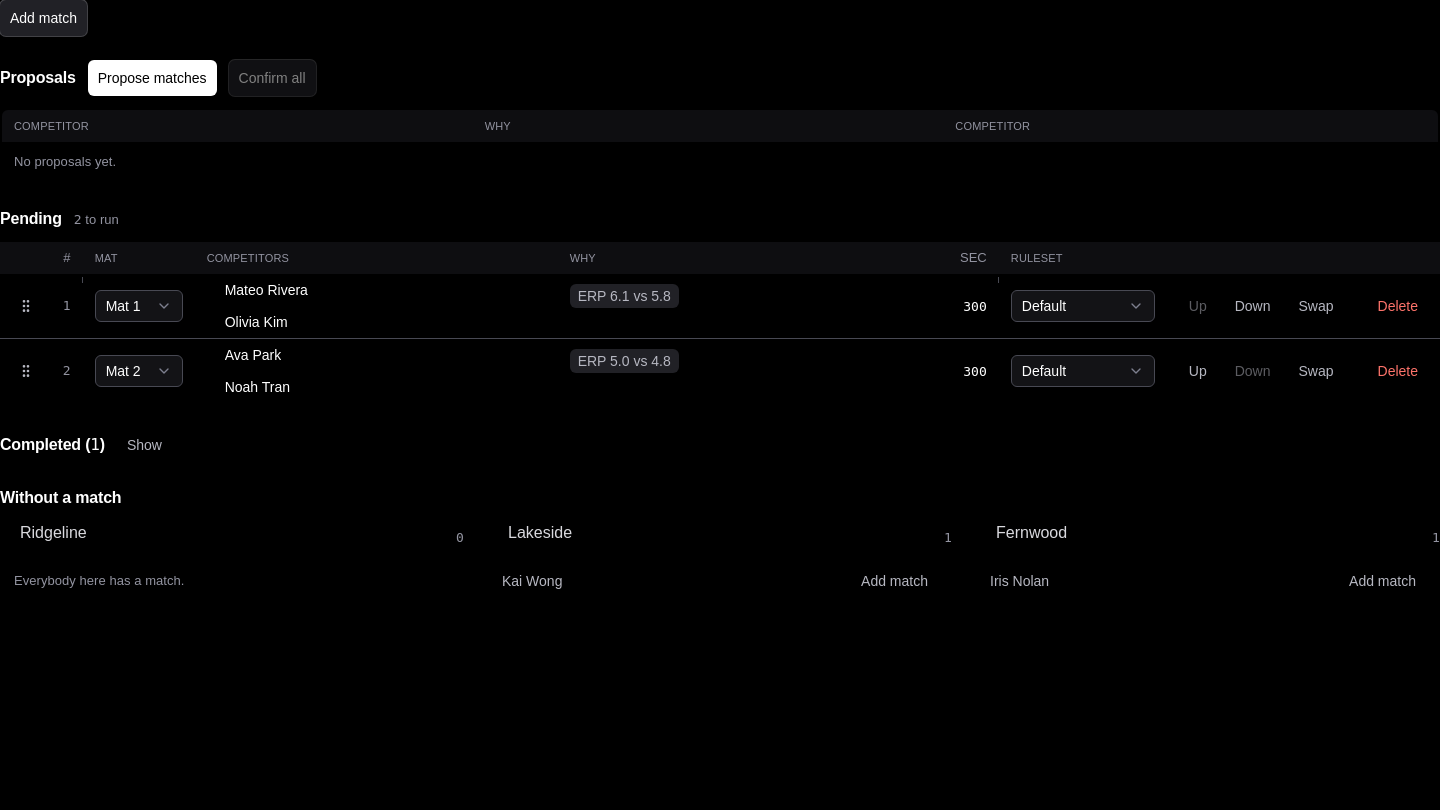
Test: MatchesTab › offers a third team when swapping a side
The image size is (1440, 810).
Click the button named "Swap Olivia Kim, Lakeside" at (232, 330), box 199,306 -> 554,338
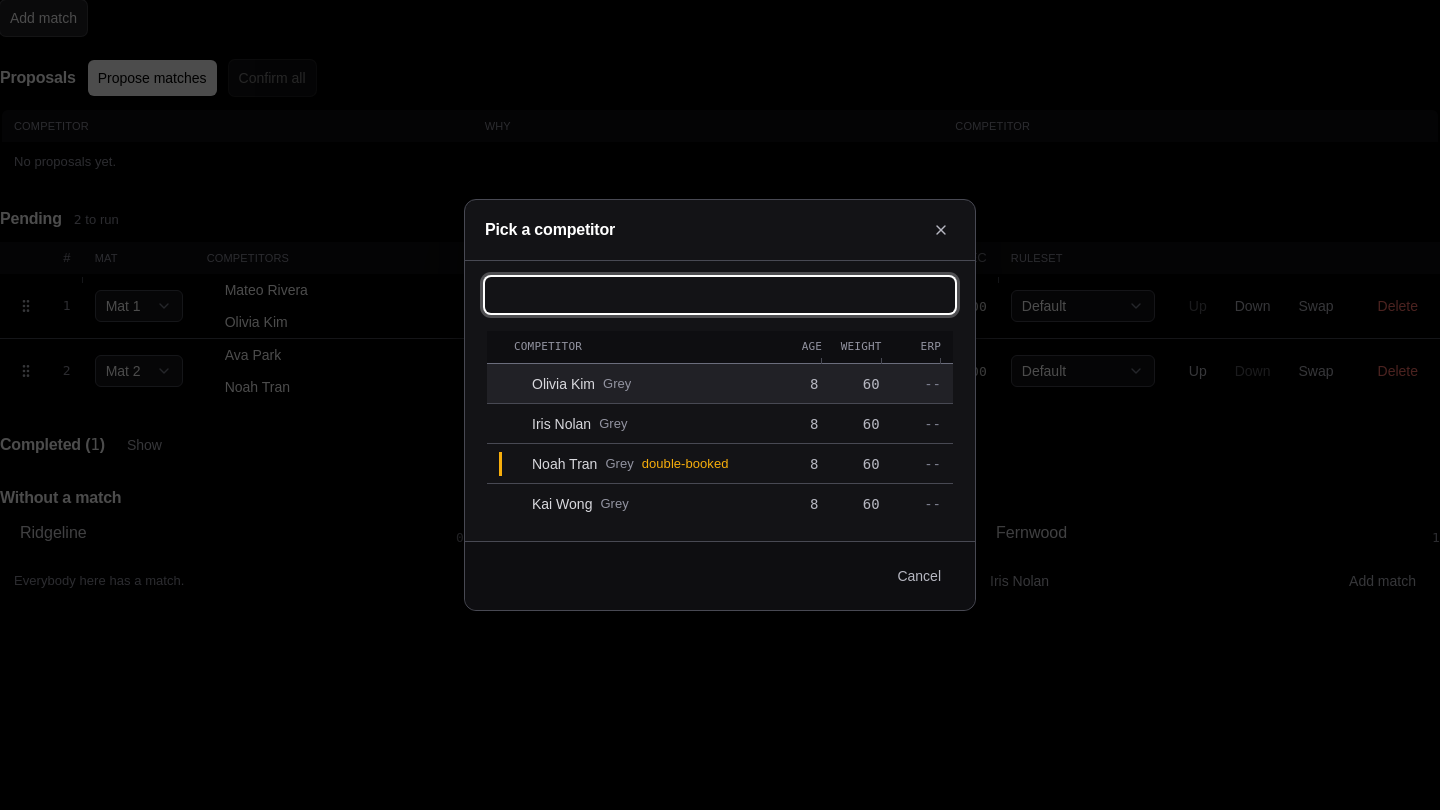
Expected: the button "Iris Nolan Grey 8 60 --" is shown, 487,403 -> 953,443
